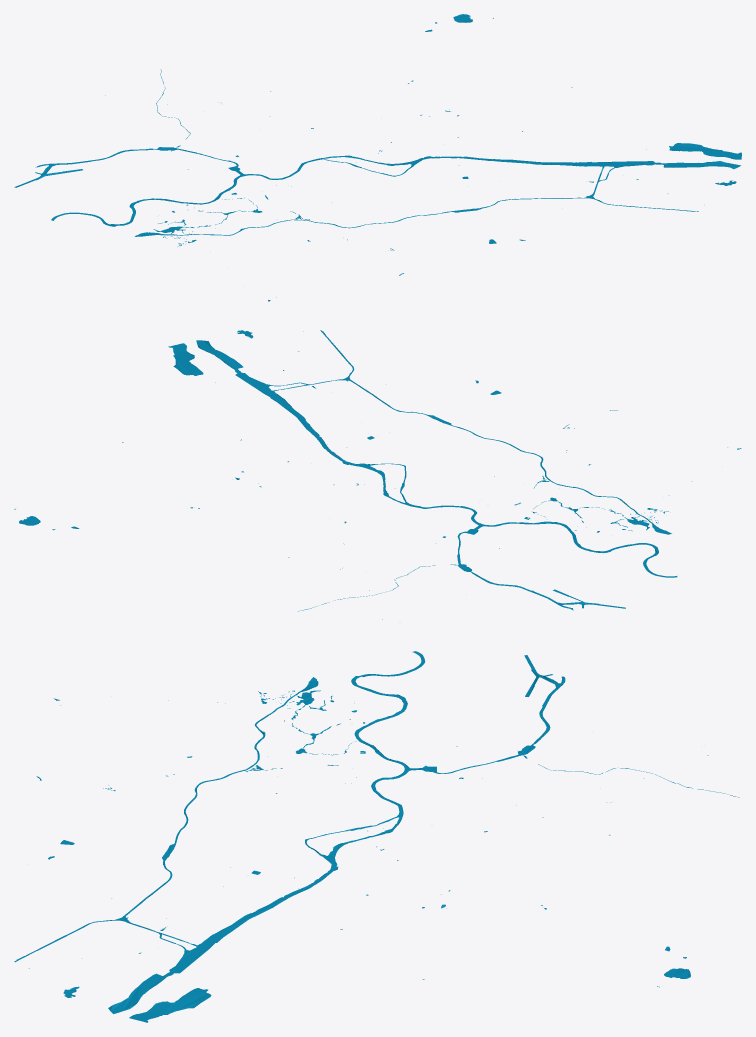
The model's file is water.glb.
3 renders of one model, top to bottom at view 1: azimuth 30°, elevation 25°; view 2: azimuth 150°, elevation 25°; view 3: azimuth 270°, elevation 25°, orthographic. The views are drawn at different scales.
Visible parts, largest first — view 1: water; view 2: water; view 3: water.
Boxes of the visible parts, x1,y1,x2,y2 form: water: (14, 14, 741, 301); water: (14, 330, 741, 619); water: (14, 651, 739, 1022).
Bounding box in the file's own units: 11223 × 57.54 × 9289.
